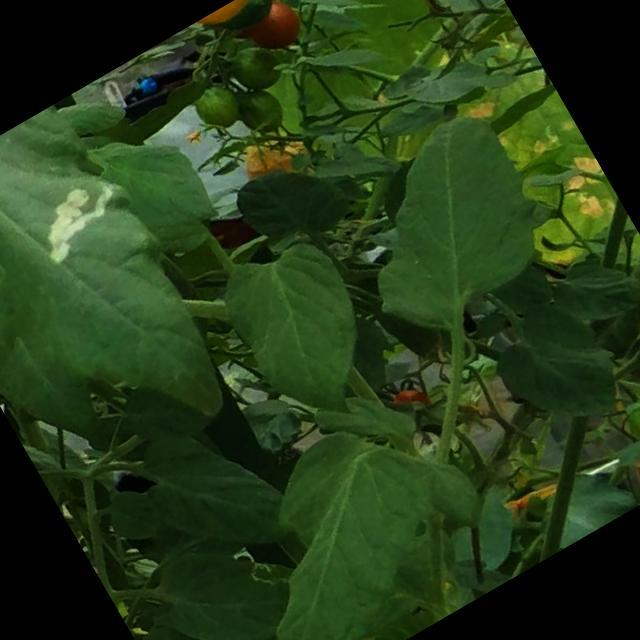Tomato target spot leaf: (0, 95, 245, 508), (130, 504, 321, 640)
